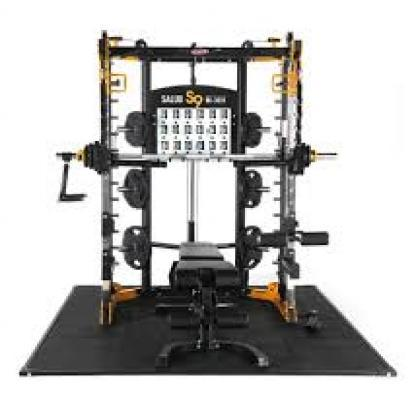smith machine: (56, 29, 339, 372)
